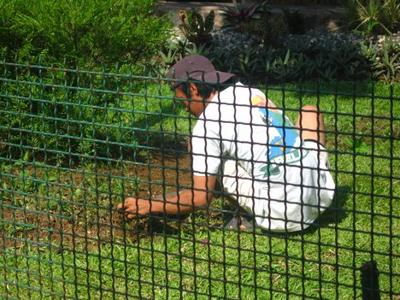person: (117, 55, 338, 237)
